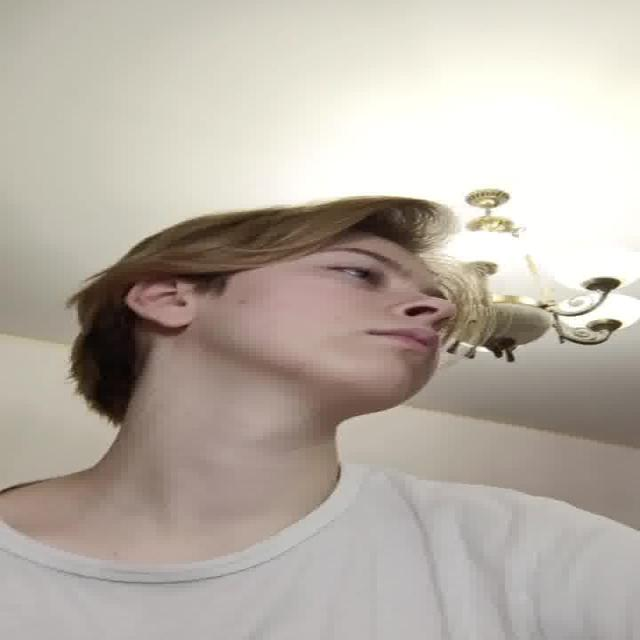earlobe: (154, 305, 190, 328)
eye: (324, 262, 386, 284)
nose: (398, 308, 444, 331)
wholeear: (124, 268, 190, 328)
